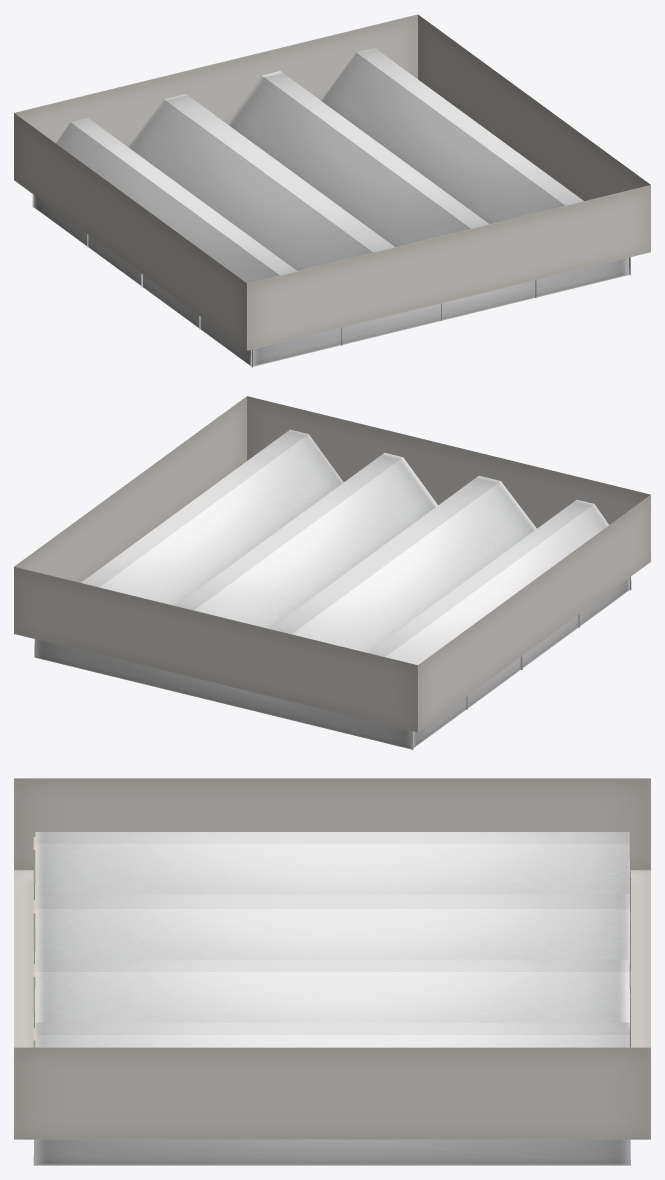
File: Lum-plafonnier-carre-B-On_01.FBX
3 views of the same model, one above another, from view 1: azimuth 30°, elevation 25°; view 2: azimuth 150°, elevation 25°; view 3: azimuth 270°, elevation 25° (orthographic). The views are drawn at different scales.
Parts seen in each view (by area): view 1: Lum-plafonnier-carre-B-On_01; view 2: Lum-plafonnier-carre-B-On_01; view 3: Lum-plafonnier-carre-B-On_01.
Boxes of the visible parts, x1=… form: Lum-plafonnier-carre-B-On_01: x1=14, y1=14, x2=650, y2=367; Lum-plafonnier-carre-B-On_01: x1=14, y1=396, x2=650, y2=749; Lum-plafonnier-carre-B-On_01: x1=14, y1=778, x2=650, y2=1165.
Bounding box in the file's own units: 50 × 49.97 × 10.95.
2 materials, 2 textured.
